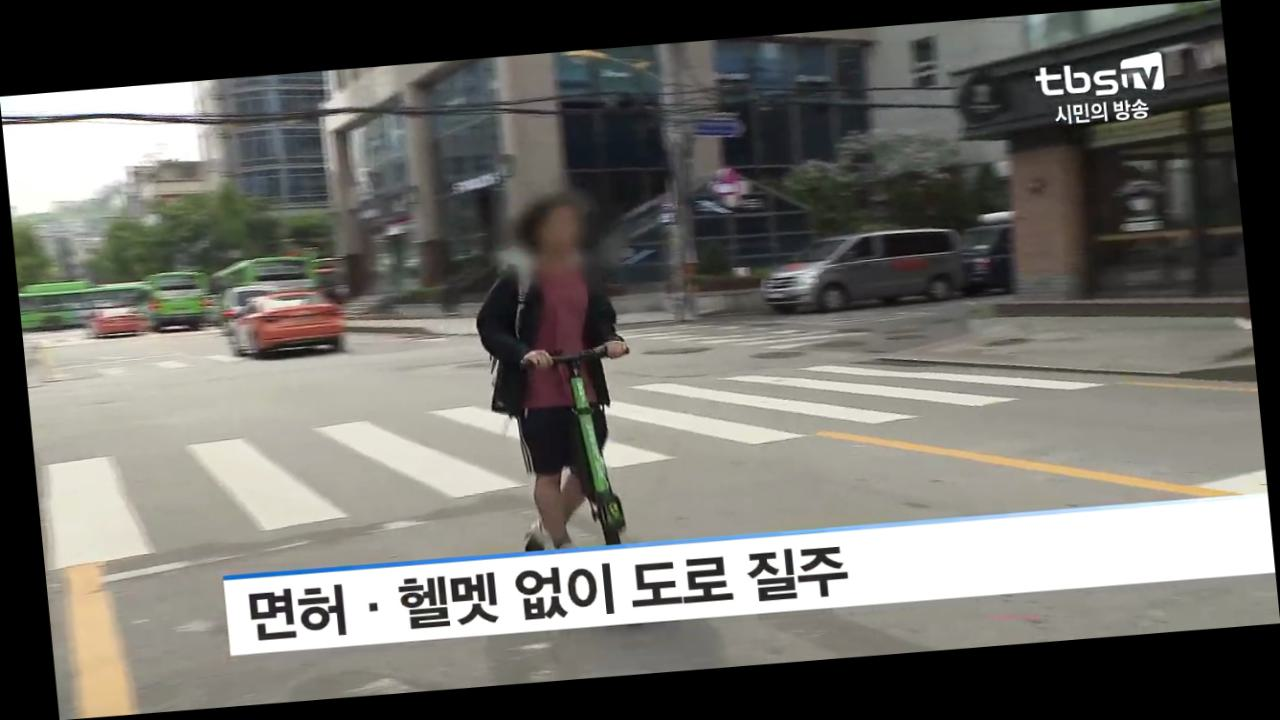nonhelmet: (465, 185, 653, 553)
